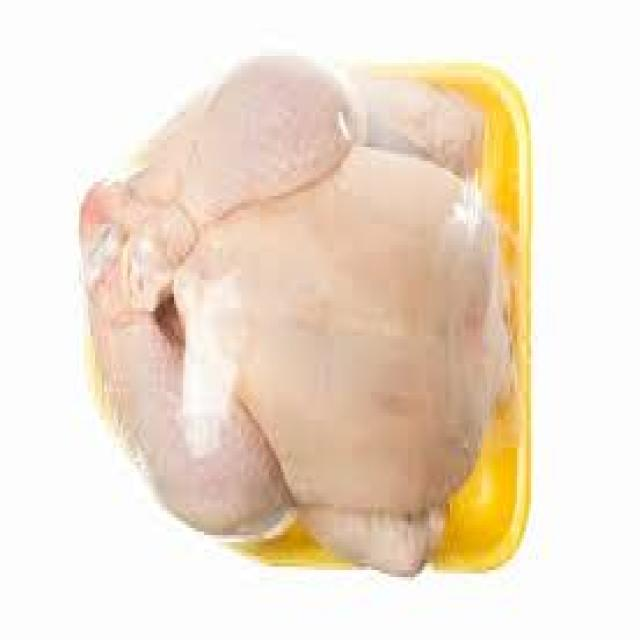chicken: (76, 44, 527, 581)
